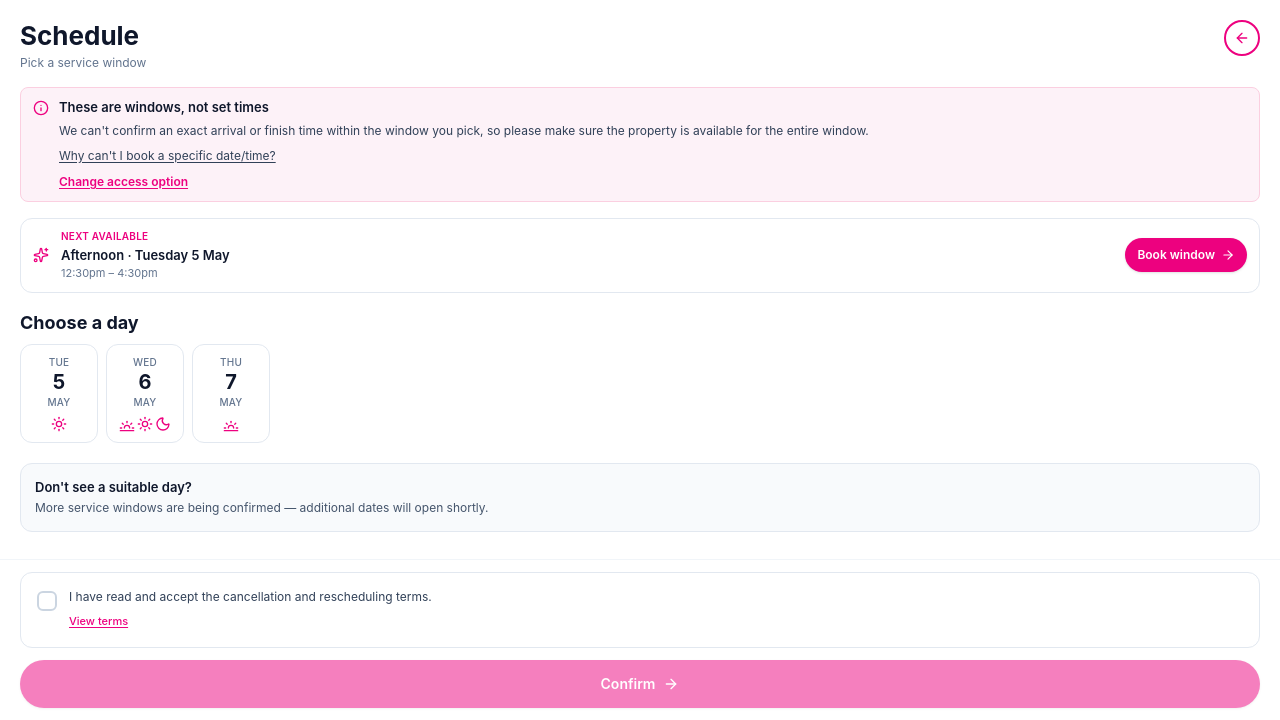
Test: SlotsMobile slot picker › cancellation-terms ack on Schedule (Task #121) › opens the cancellation terms modal when View terms is clicked, and closes it on the close button
This screenshot has width=1280, height=720.
Step 1. Click the button with test id "button-view-cancellation-terms-mobile" → (99, 622), box [69,613,128,631]
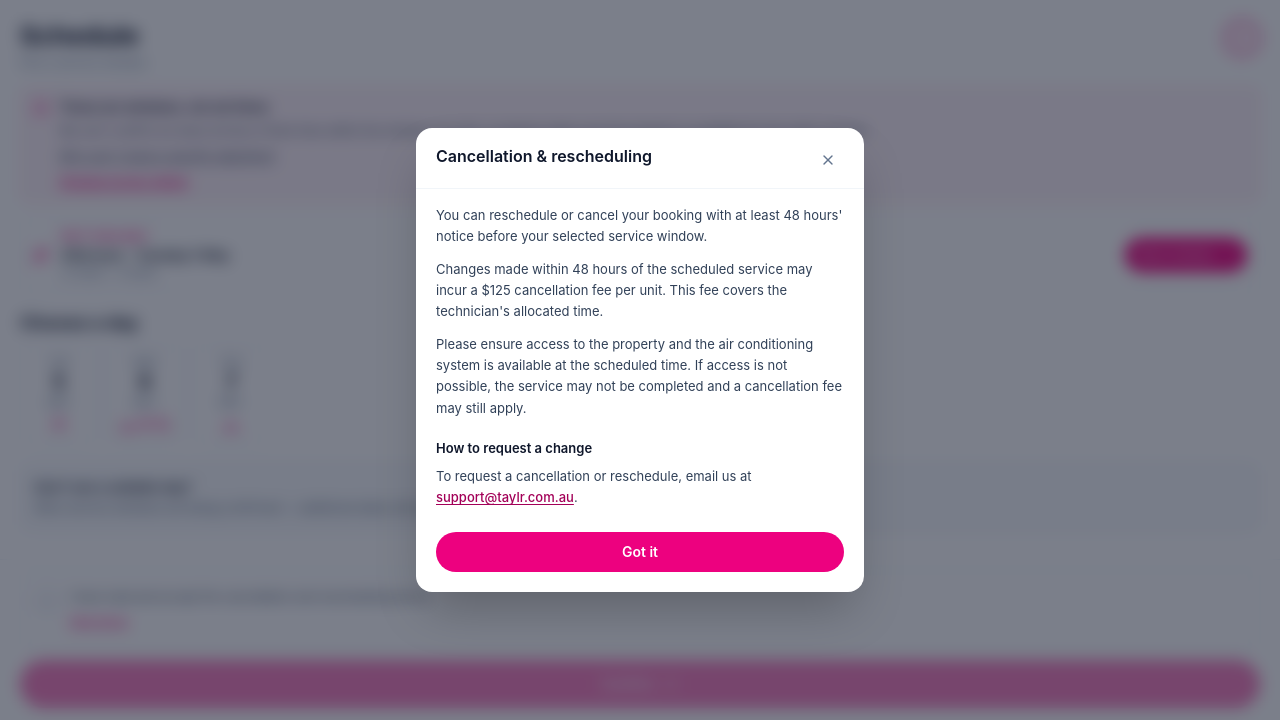
Check: the element with test id "modal-cancellation-terms" is shown
Check: the element with test id "cancellation-terms-paragraphs" shows "48 hours", box [436,207,842,244]
Check: the element with test id "cancellation-terms-contact" shows "support@taylr.com.au", box [436,489,574,505]
Step 2. Click the button with test id "button-cancellation-terms-close" → (828, 160), box [812,144,844,176]
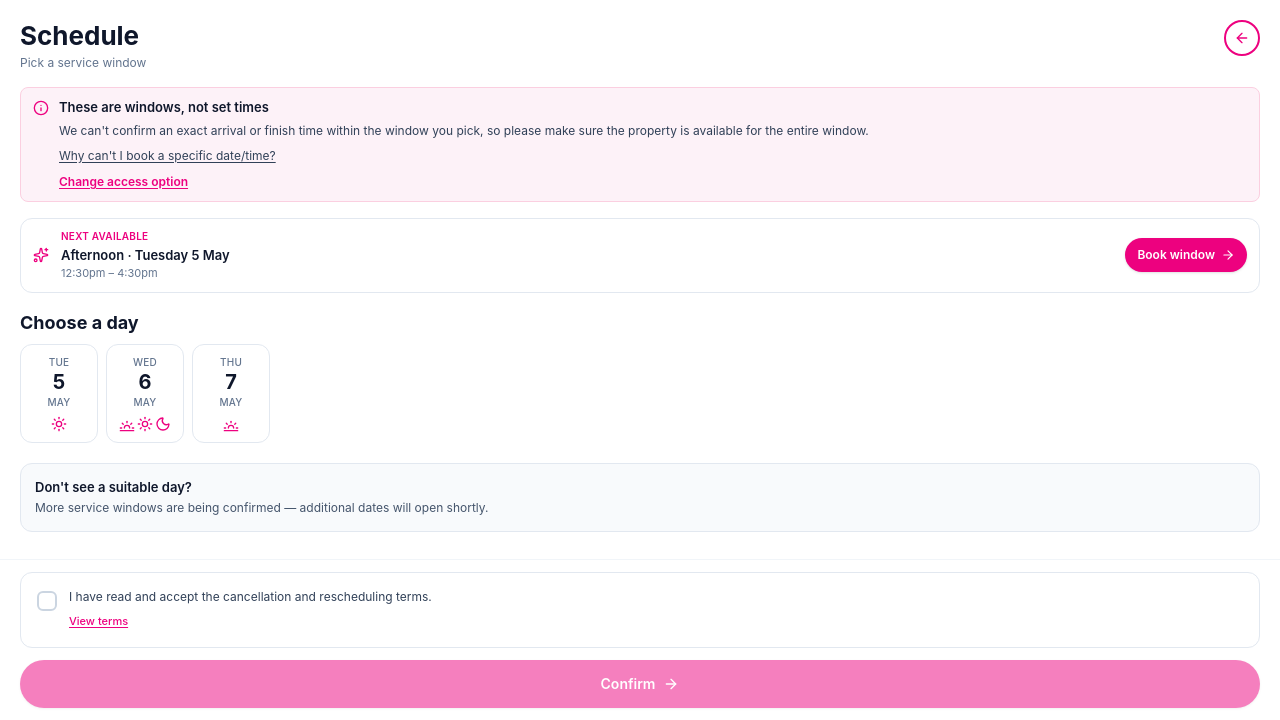
Check: the element with test id "modal-cancellation-terms" is gone
